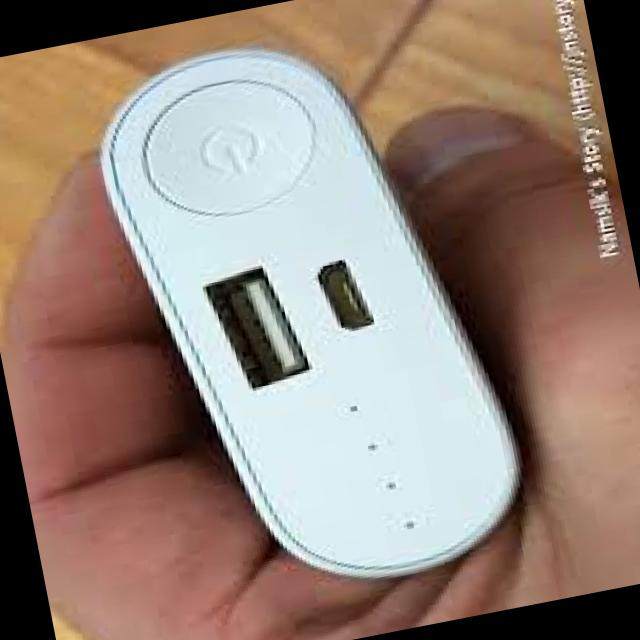power_bank: (74, 2, 551, 620)
